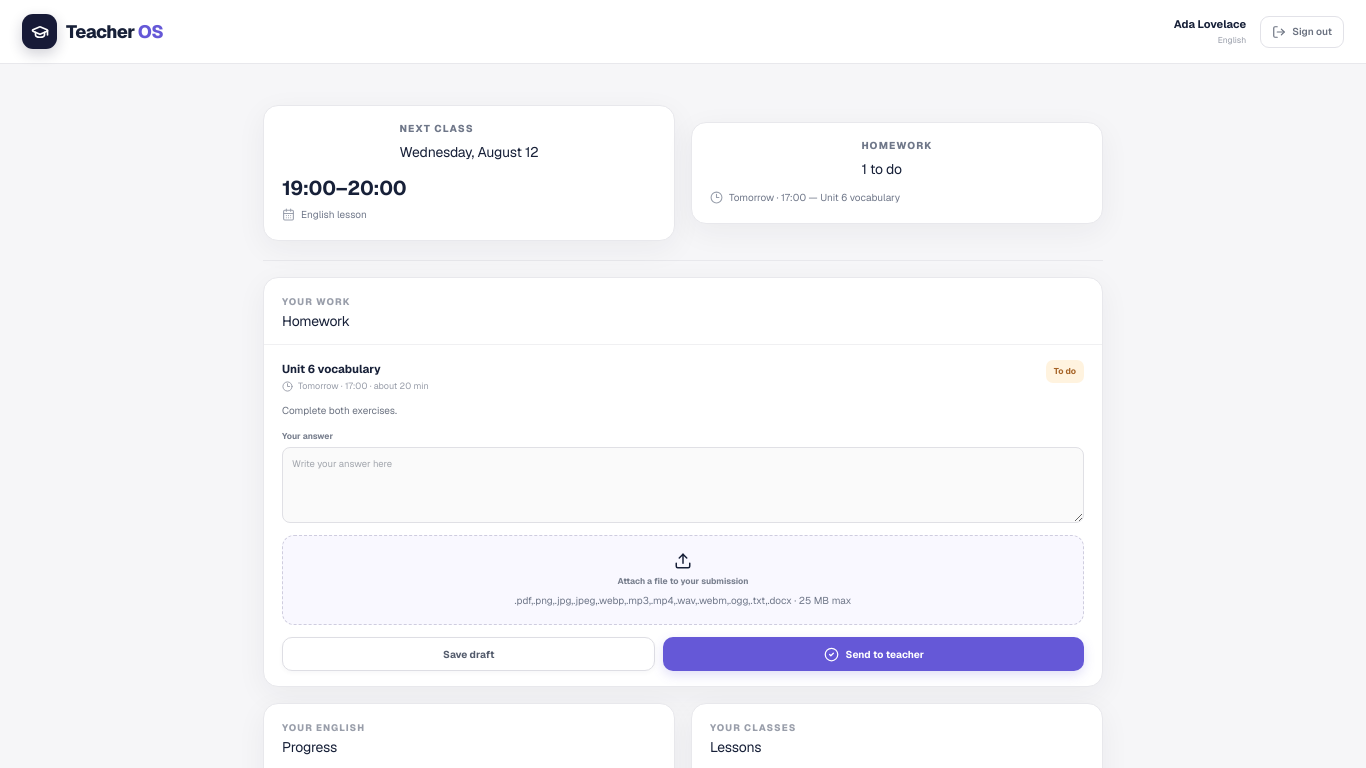
homework the learner still owes › reports a refusal from the database rather than claiming success
Type "x" into the text box with placeholder "Write your answer here" at (683, 485), box [282, 447, 1084, 523]
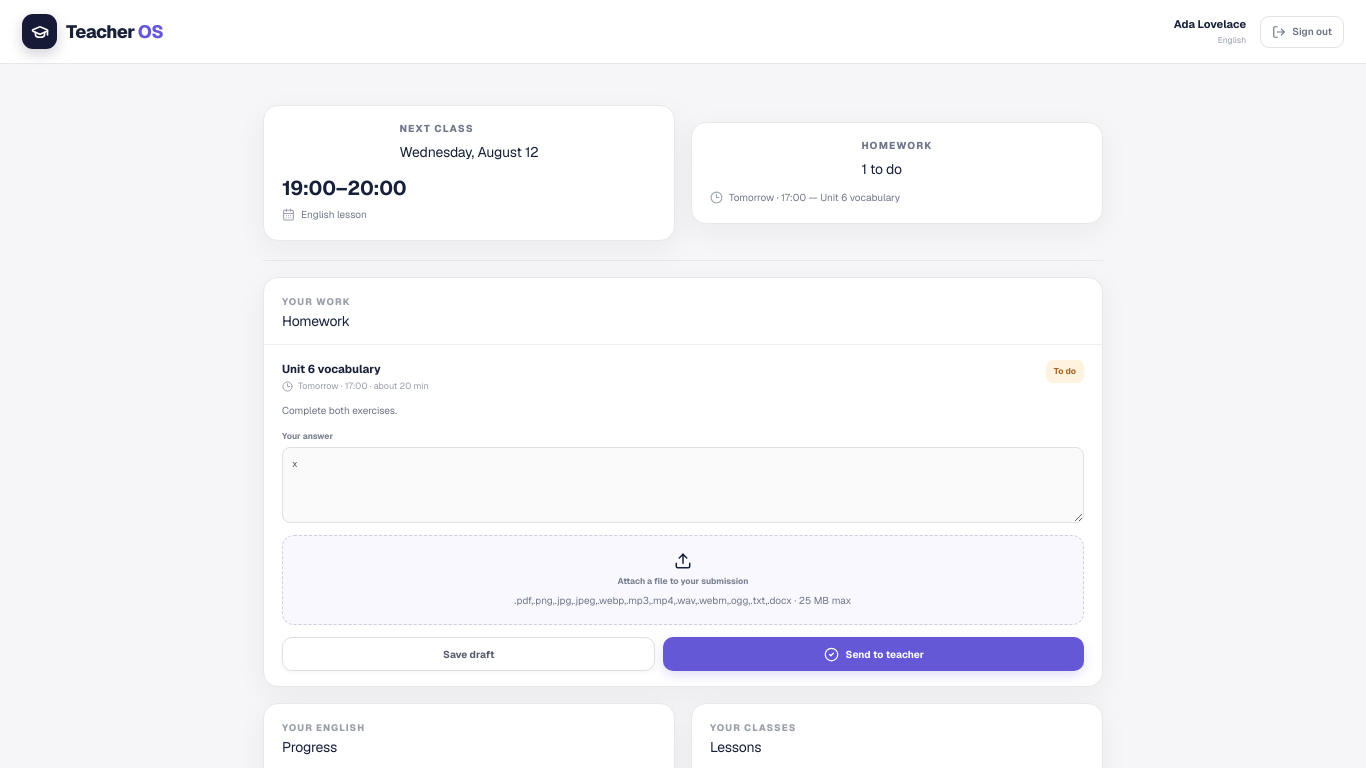
Click the button "Send to teacher" at (874, 654), box [664, 637, 1084, 671]
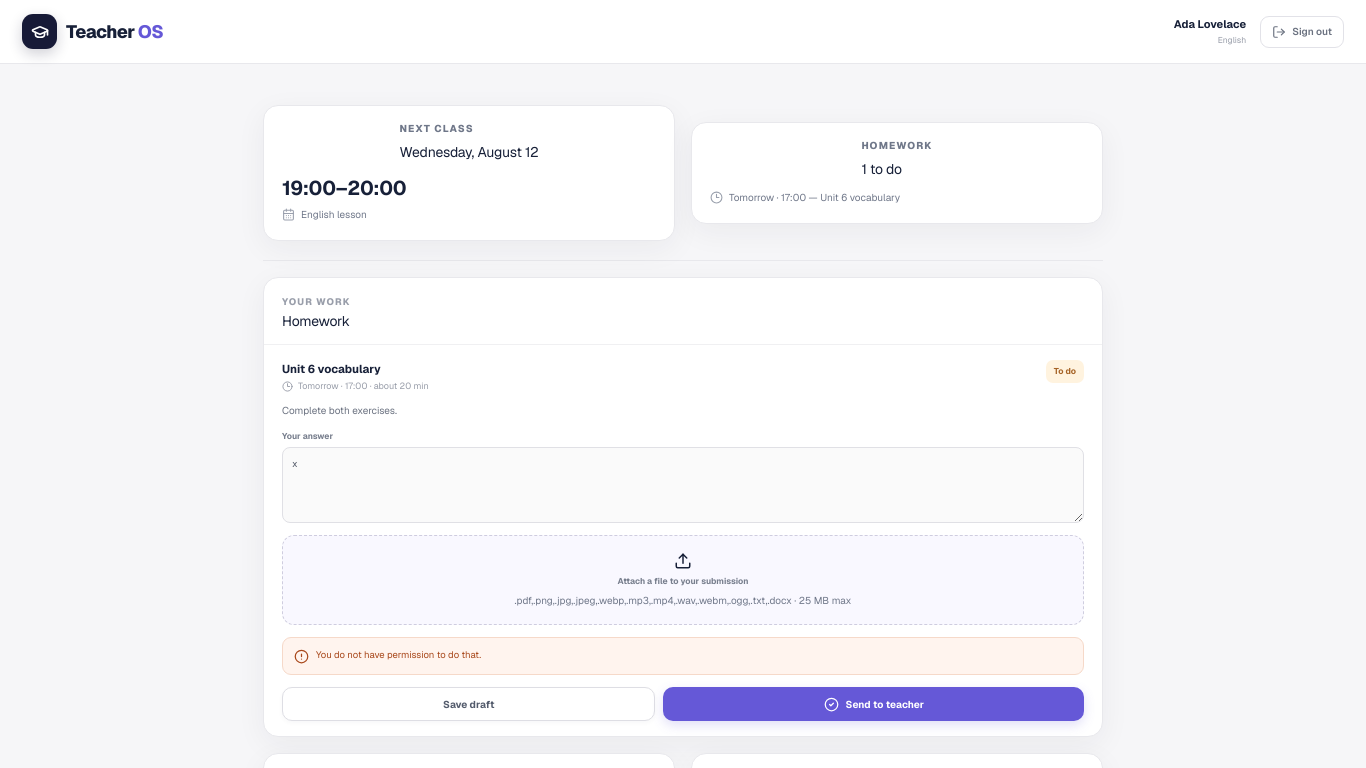
Check: the message shows "do not have permission", box [316, 648, 481, 661]
